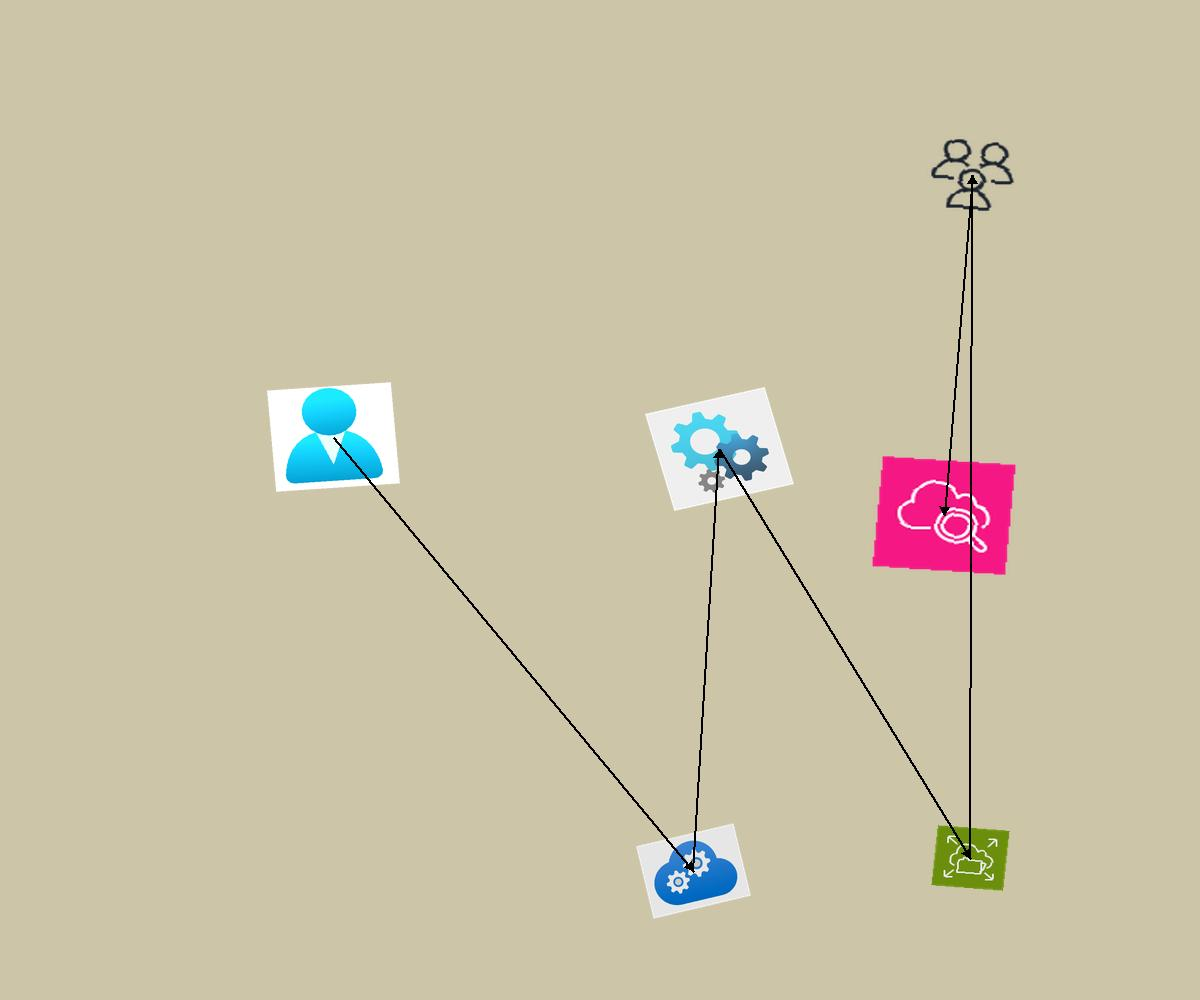AWS-CloudWatch: (871, 455, 1017, 576)
AWS-EFS: (931, 825, 1010, 891)
AWS-Res_Users: (922, 133, 1023, 217)
Azure_api: (645, 387, 794, 511)
Azure_cloud_services: (636, 823, 751, 919)
Azure_users: (267, 382, 400, 492)
